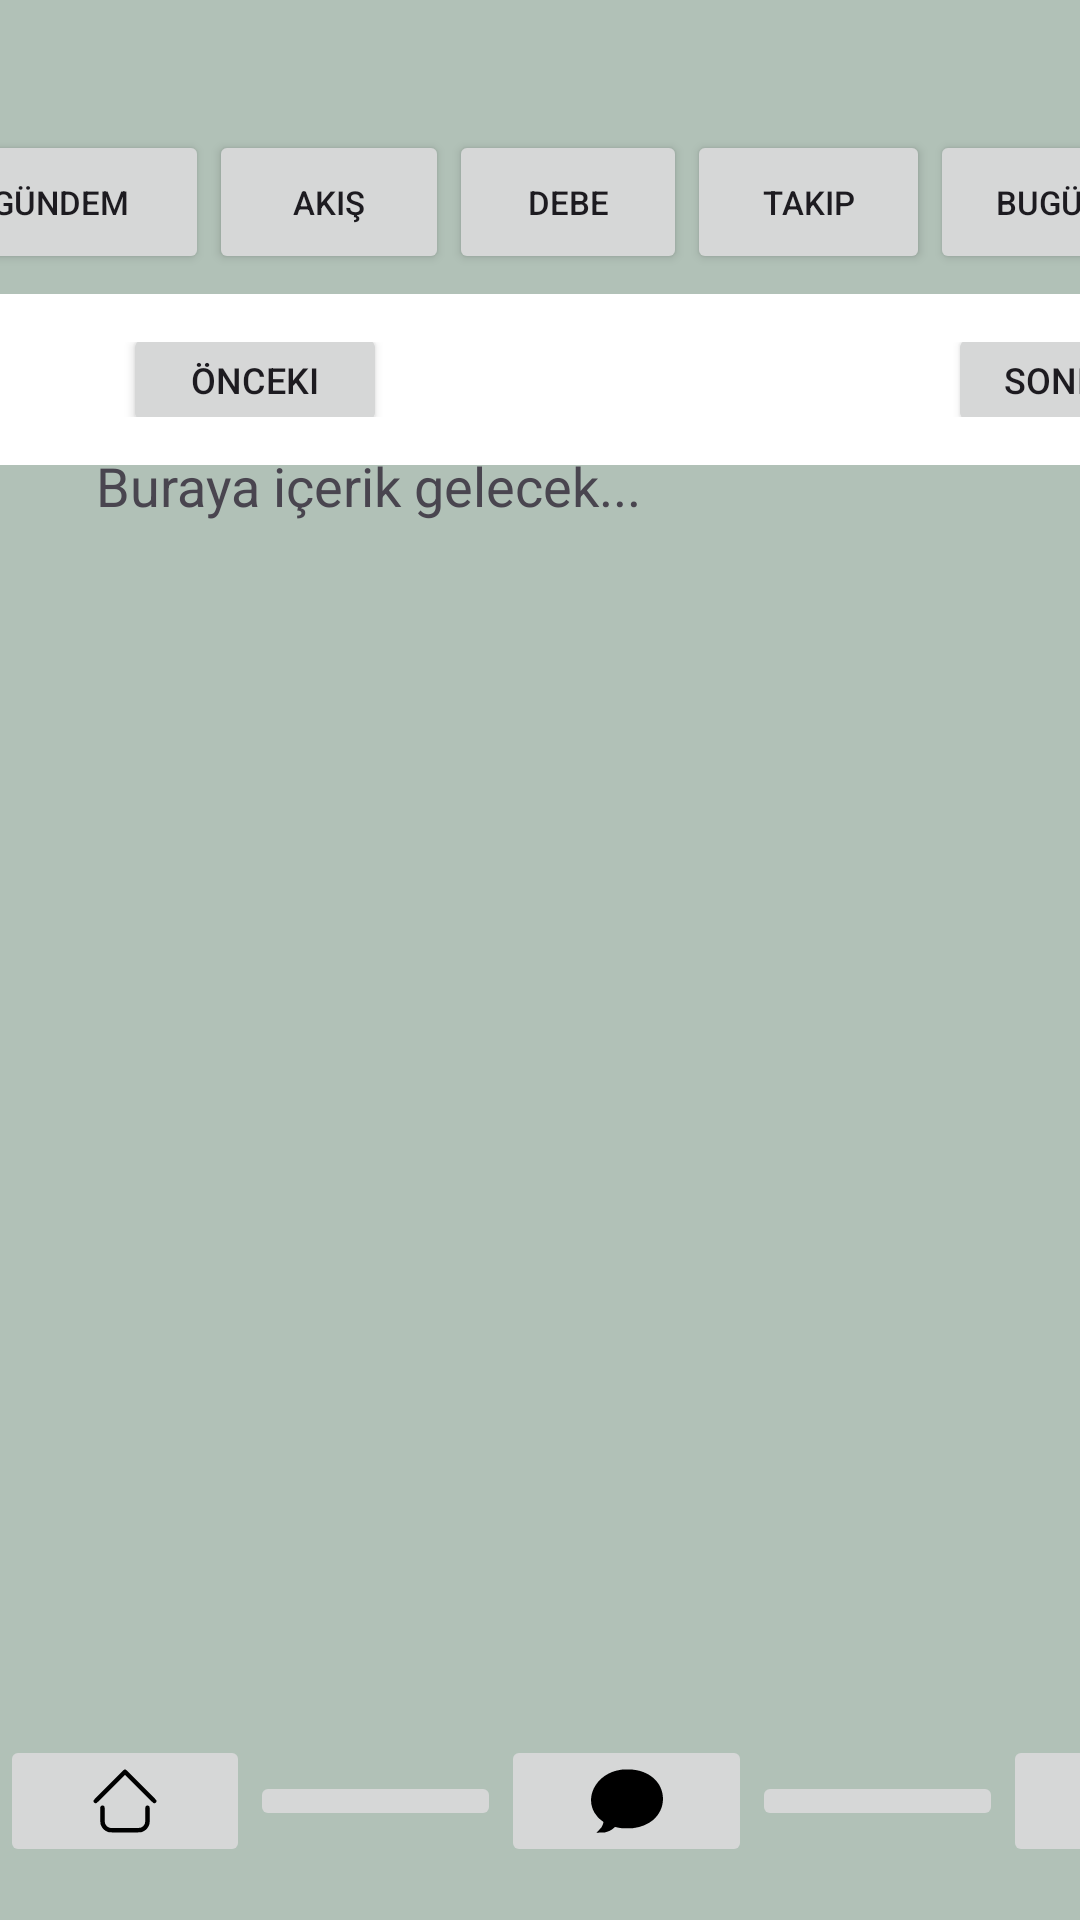

Where icons sit on this 1080px x 1920px app screen, as detection(x1, y1, x2, y2):
Ana Sayfa: detection(12, 1753, 238, 1849)
Mesajlar: detection(513, 1753, 740, 1849)
